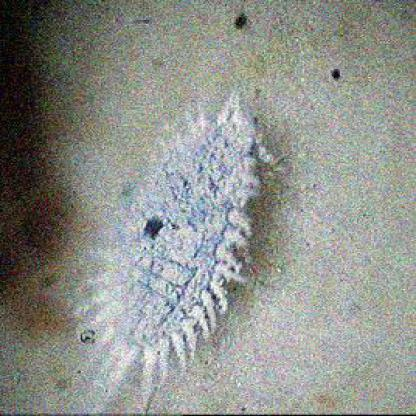mealy bug: (97, 97, 270, 404)
